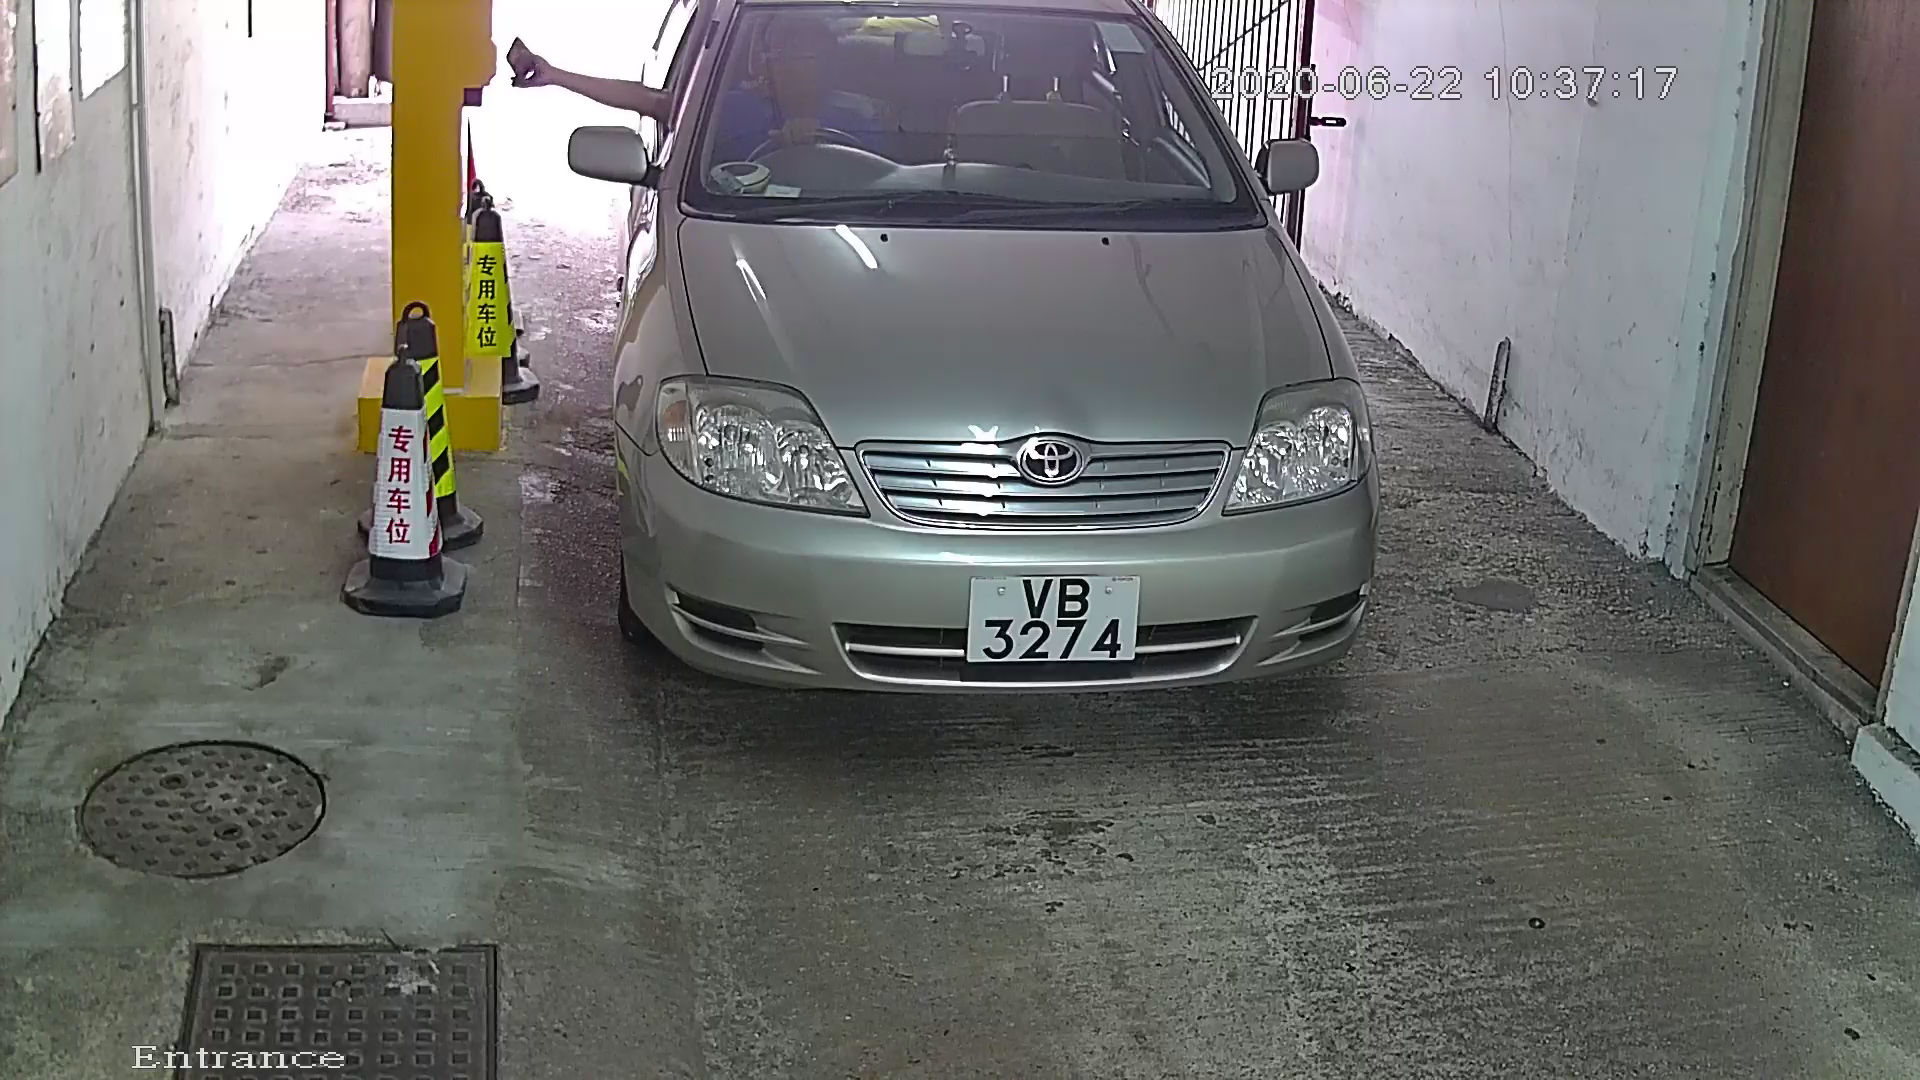privatecar: (526, 11, 1396, 765)
